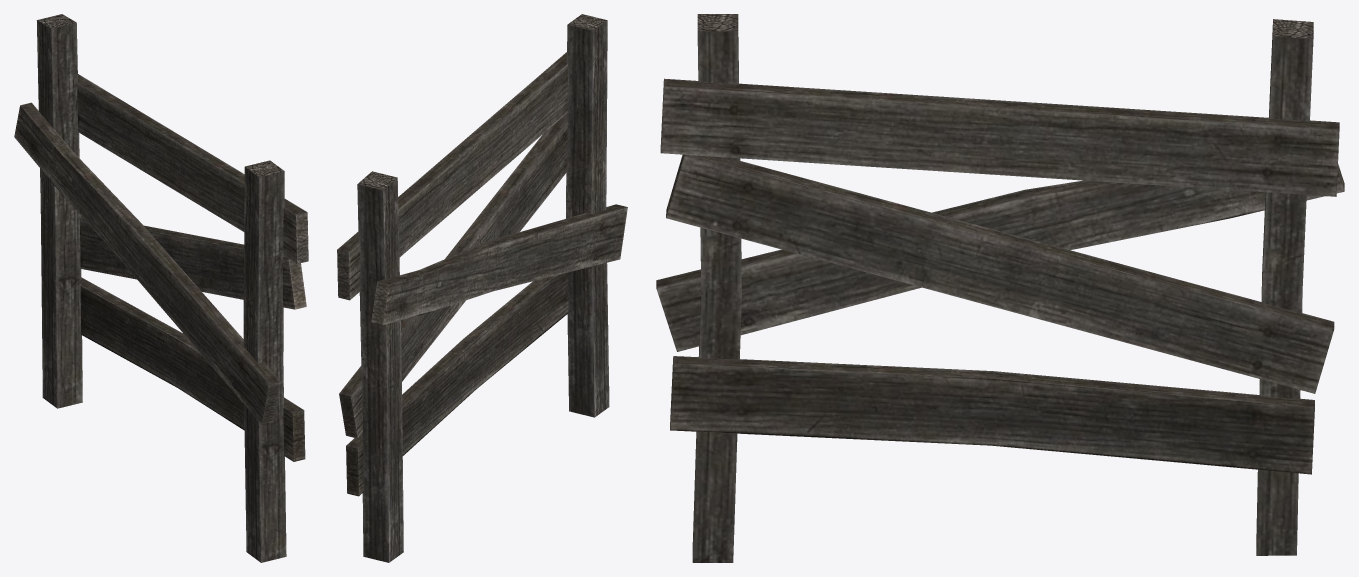
File: eso_gu8_WoodBoards2-transformed.glb
3 renders of one model, left to right at view 1: azimuth 30°, elevation 25°; view 2: azimuth 150°, elevation 25°; view 3: azimuth 270°, elevation 25°, orthographic. The views are drawn at different scales.
Parts seen in each view (by area): view 1: default; view 2: default; view 3: default.
Boxes of the visible parts, box(x1,y1,x2,y2) form: default: box(14, 14, 308, 562); default: box(337, 14, 627, 562); default: box(656, 14, 1344, 562).
Size of the model in its own units: 0.6175 by 4.79 by 5.62.
1 material, 1 textured.
